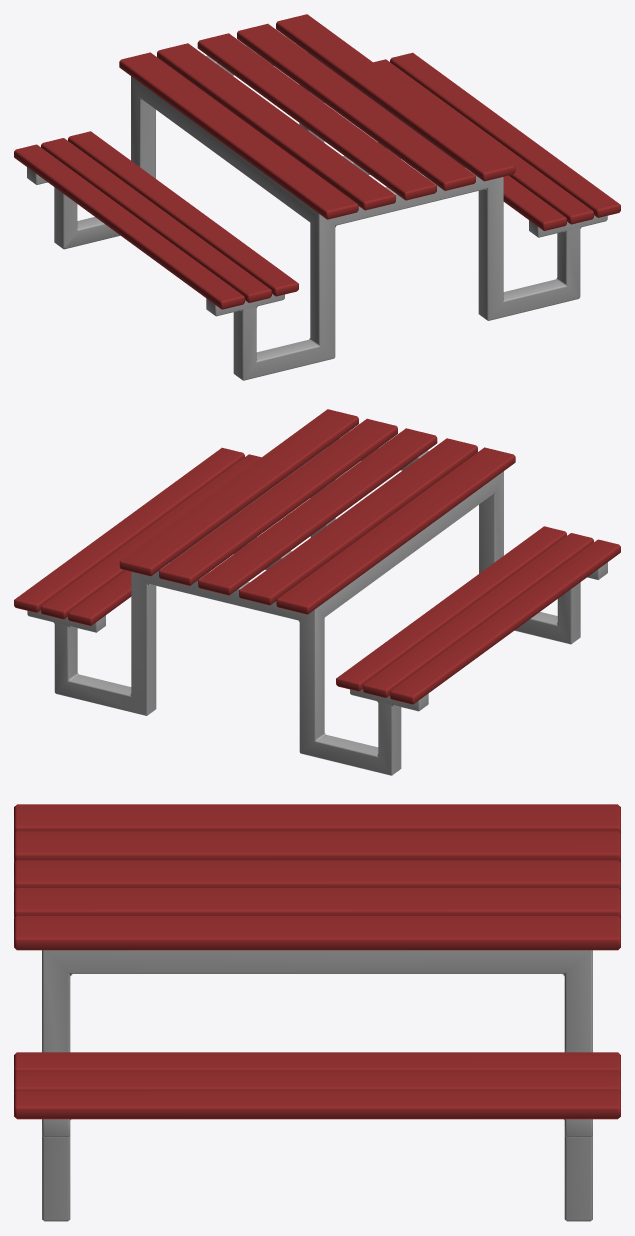
The model's file is sm_table_ext.fbx.
3 views of the same model, one above another, from view 1: azimuth 30°, elevation 25°; view 2: azimuth 150°, elevation 25°; view 3: azimuth 270°, elevation 25° (orthographic). The views are drawn at different scales.
Visible parts, largest first — view 1: table_ext; view 2: table_ext; view 3: table_ext.
Part boxes in pixels (x1,y1,x2,y2): table_ext: (14, 14, 620, 380); table_ext: (14, 409, 620, 775); table_ext: (14, 804, 620, 1221).
Bounding box in the file's own units: 23.55 × 8.93 × 21.21.
